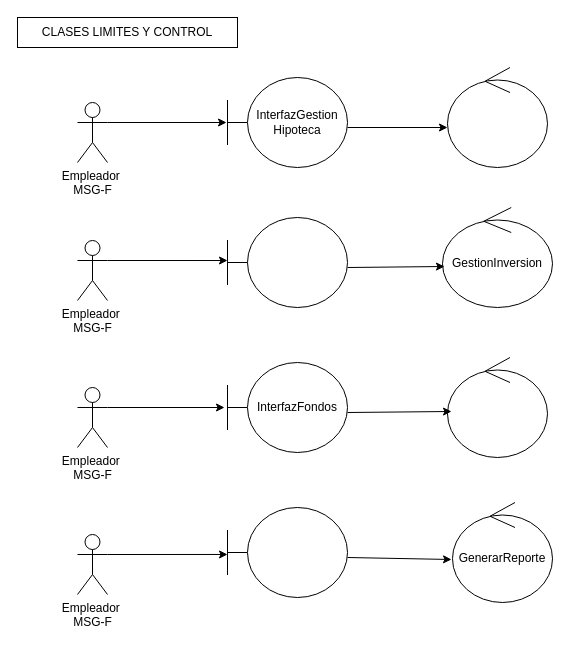
Image size: 570x648. Some labels were removed from this diagram. Here are the shapes that lost their labels. From the top down, the box of each, then its label:
(446, 66, 548, 168): GenerarHipoteca
(226, 216, 348, 308): InterfazGestion Inversion
(446, 356, 548, 458): CalcularCuota
(226, 506, 348, 598): InterfazReportes
